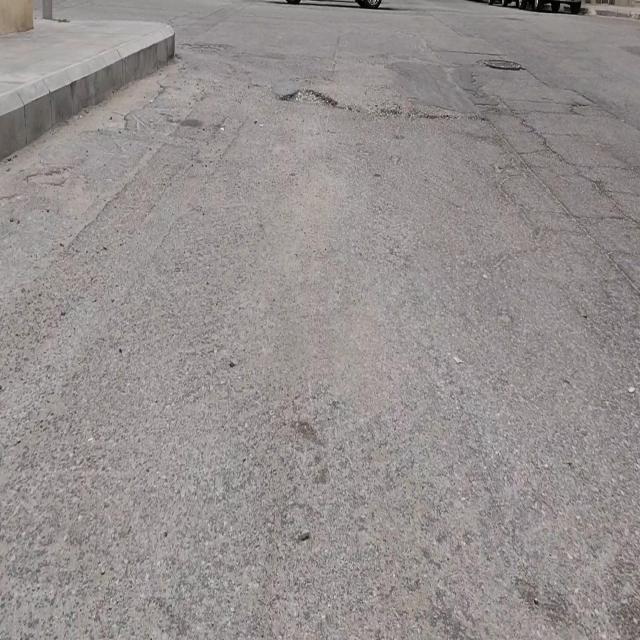Pothole: (280, 88, 338, 108)
